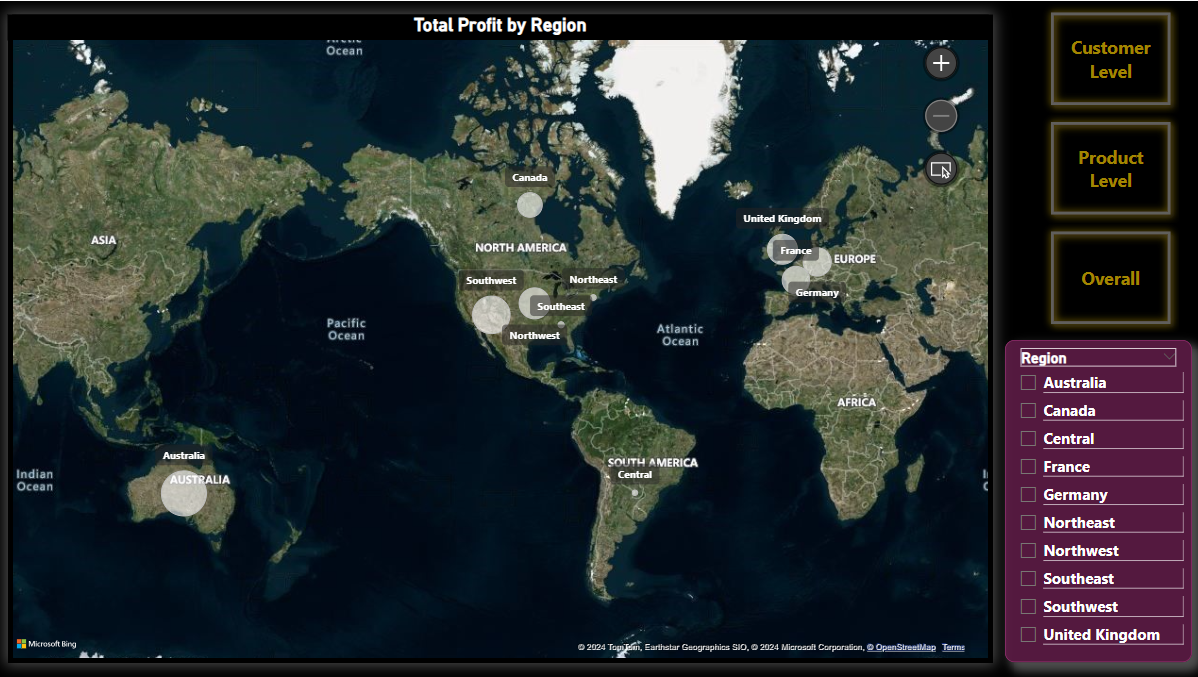

The page's visual inventory and layout, read from the dashboard file:
{"tool":"powerbi","page":{"name":"Regional Analysis","canvas":[1280,720],"ordinal":2},"visuals":[{"type":"actionButton","box":[1107.8,3.2,144.6,116],"z":0},{"type":"actionButton","box":[1107.8,119.2,144.6,116],"z":1000},{"type":"actionButton","box":[1107.8,235.2,144.6,116],"z":2000},{"type":"slicer","fields":{"Values":["Territory Lookup.Region"]},"box":[1068.3,359.8,198.2,341.4],"z":3000},{"type":"map","fields":{"Category":["Territory Lookup.Region Hierarchy.Region","Territory Lookup.Region Hierarchy.Country","Territory Lookup.Region Hierarchy.Continent"],"Size":["Measure Table.Total Profit"]},"box":[11.1,14.3,1044.2,686.6],"z":3001}]}

Visuals, with their boxes in screenshot pixels (x1, y1, x2, y2), scaled from the page's 1280x720 canvas onto the 1198x677 screenshot:
actionButton: 1037, 3, 1172, 112
actionButton: 1037, 112, 1172, 221
actionButton: 1037, 221, 1172, 330
slicer - Territory Lookup.Region: 1000, 338, 1185, 659
map - Territory Lookup.Region Hierarchy.Region x Territory Lookup.Region Hierarchy.Country: 10, 13, 988, 659
